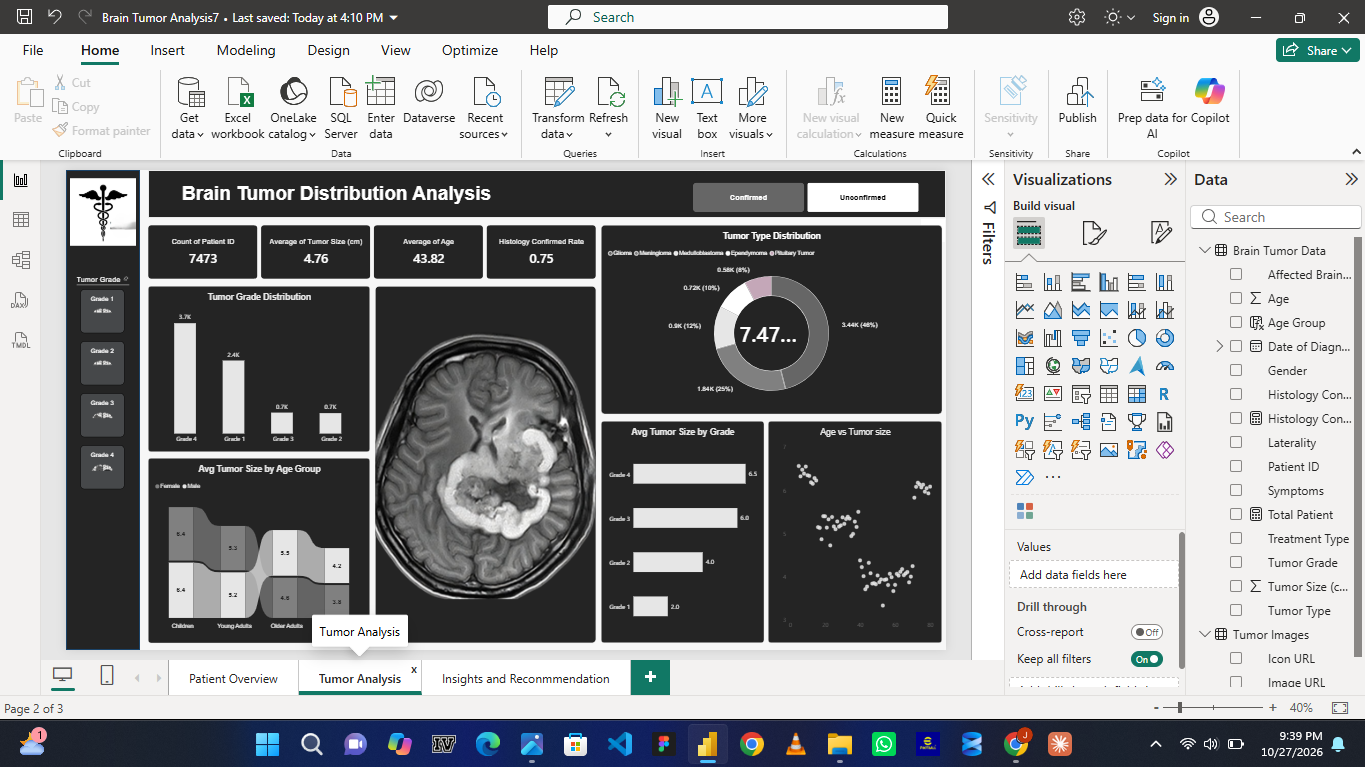

The dashboard page shown, as its layout file describes it:
{"tool":"powerbi","page":{"name":"Tumor Analysis","canvas":[2200,1200],"ordinal":1},"visuals":[{"type":"shape","box":[0,0,185,1200],"z":0},{"type":"ChicletSlicer1448559807354","fields":{"Category":["Tumor Images.Tumor Grade"],"Image":["Tumor Images.Icon URL"]},"box":[10,250,164,598],"z":1000},{"type":"shape","box":[205,0,1995,120],"z":2000},{"type":"textbox","box":[270,30,812.5,57.5],"z":3000},{"type":"cardVisual","fields":{"Data":["Count(Brain Tumor Data.Patient ID)","Avg(Brain Tumor Data.Tumor Size (cm))","Avg(Brain Tumor Data.Age)","Brain Tumor Data.Histology Confirmation Rate"]},"box":[205,137.5,1120,135],"z":4000},{"type":"image","box":[772.5,290,552.5,892.5],"z":5000},{"type":"donutChart","title":"Tumor Type Distribution","fields":{"Category":["Brain Tumor Data.Tumor Type"],"Y":["Count(Brain Tumor Data.Patient ID)"]},"box":[1337.5,137.5,852.5,472.5],"z":6000},{"type":"columnChart","title":"Tumor Grade Distribution","fields":{"Category":["Brain Tumor Data.Tumor Grade"],"Y":["CountNonNull(Brain Tumor Data.Patient ID)"]},"box":[205,290,555,415],"z":7000},{"type":"barChart","title":"Avg Tumor Size by Grade","fields":{"Category":["Brain Tumor Data.Tumor Grade"],"Y":["Avg(Brain Tumor Data.Tumor Size (cm))"]},"box":[1337.5,627.5,407.5,555],"z":8000},{"type":"ribbonChart","title":"Avg Tumor Size by Age Group","fields":{"Category":["Brain Tumor Data.Age Group"],"Series":["Brain Tumor Data.Gender"],"Y":["Avg(Brain Tumor Data.Tumor Size (cm))"]},"box":[205,720,555,462.5],"z":9000},{"type":"scatterChart","title":"Age vs Tumor size","fields":{"X":["Brain Tumor Data.Age"],"Y":["Avg(Brain Tumor Data.Tumor Size (cm))"]},"box":[1755,627.5,435,555],"z":10000},{"type":"advancedSlicerVisual","fields":{"Values":["Brain Tumor Data.Histology Confirmation"]},"box":[1567.5,0,565,105],"z":11000},{"type":"image","box":[10,17.5,165,175],"z":12000}]}

Visuals, with their boxes on the page's 2200x1200 design canvas (x1, y1, x2, y2). These are canvas units, not pixel positions in the 1365x767 screenshot, which may show the page scaled, cropped or inside an application window:
shape: 0:0:185:1200
ChicletSlicer1448559807354 - Tumor Images.Tumor Grade x Tumor Images.Icon URL: 10:250:174:848
shape: 205:0:2200:120
textbox: 270:30:1082:88
cardVisual - Count(Brain Tumor Data.Patient ID) x Avg(Brain Tumor Data.Tumor Size (cm)): 205:138:1325:272
image: 772:290:1325:1182
"Tumor Type Distribution" donutChart: 1338:138:2190:610
"Tumor Grade Distribution" columnChart: 205:290:760:705
"Avg Tumor Size by Grade" barChart: 1338:628:1745:1182
"Avg Tumor Size by Age Group" ribbonChart: 205:720:760:1182
"Age vs Tumor size" scatterChart: 1755:628:2190:1182
advancedSlicerVisual - Brain Tumor Data.Histology Confirmation: 1568:0:2132:105
image: 10:18:175:192
